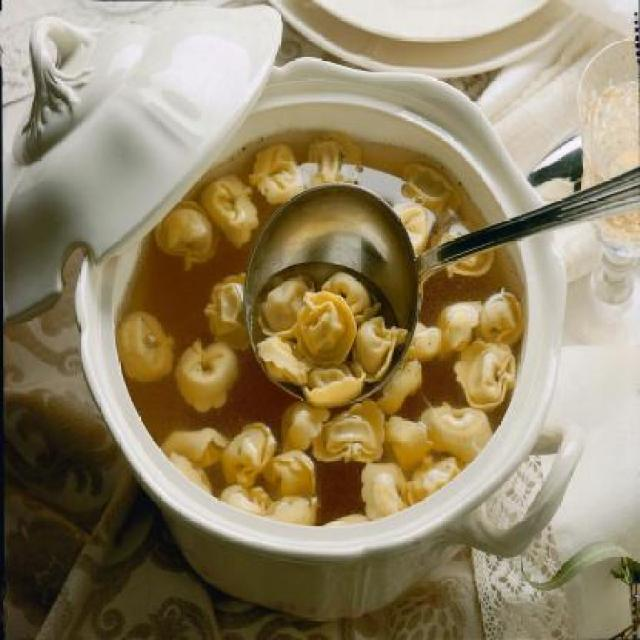Tortellini in broth: (261, 260, 414, 417)
